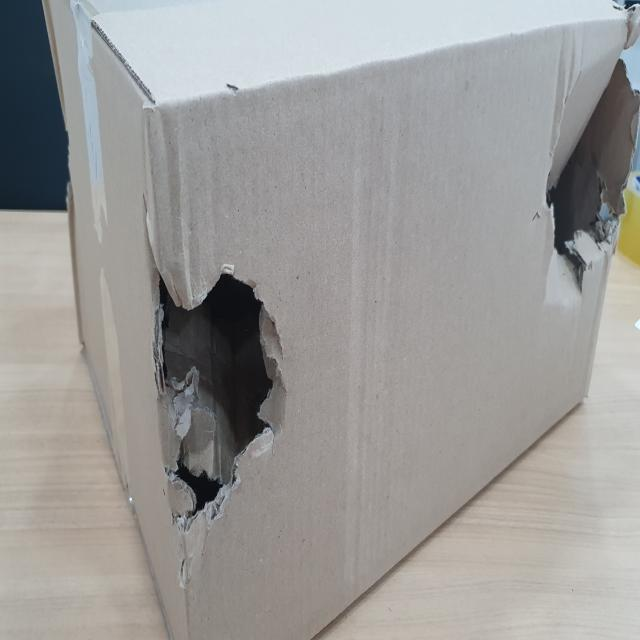hole: (137, 252, 297, 590), (538, 49, 640, 303)
